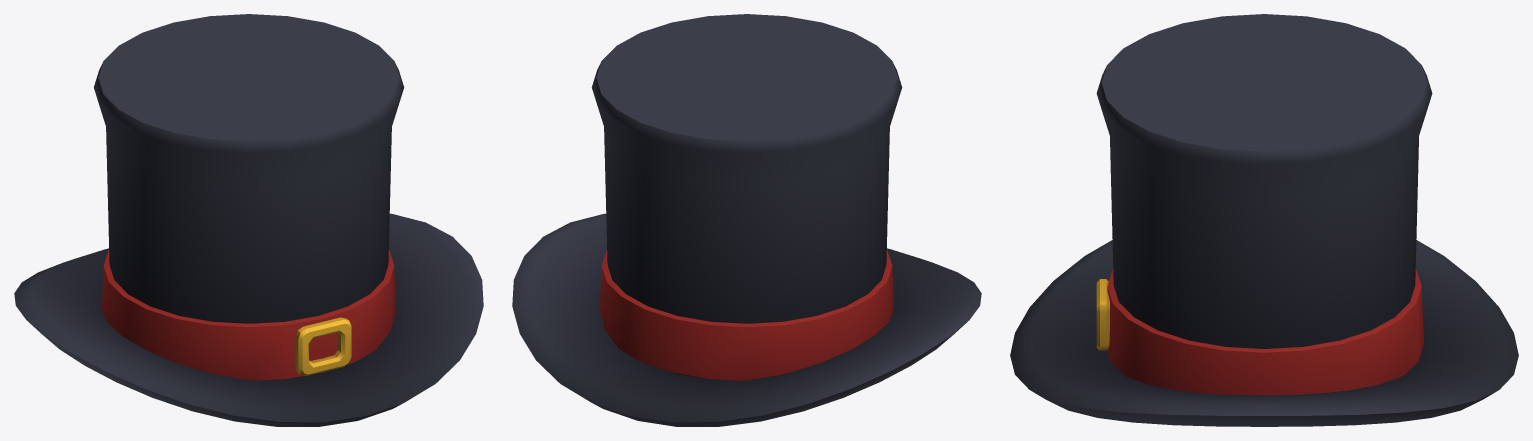
Rendered from tophat.glb.
3 views of the same model, side by side, from view 1: azimuth 30°, elevation 25°; view 2: azimuth 150°, elevation 25°; view 3: azimuth 270°, elevation 25° (orthographic). The views are drawn at different scales.
Visible parts, largest first — view 1: tophat; view 2: tophat; view 3: tophat.
Part boxes in pixels (box(x1,y1,x2,y2)): tophat: box(14, 14, 483, 426); tophat: box(512, 14, 981, 426); tophat: box(1010, 14, 1518, 426).
Bounding box in the file's own units: 0.306 × 0.189 × 0.306.
